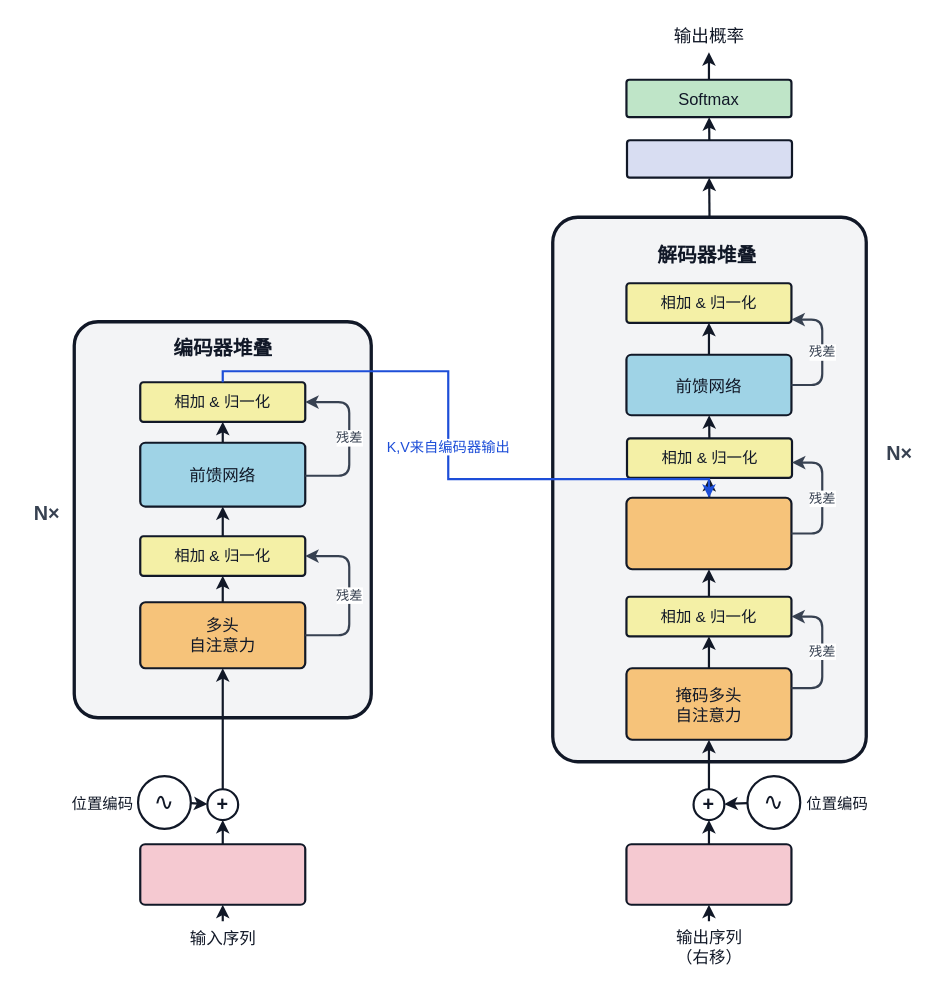
This 945x989 diagram has some shape labels left out. The shapes that lost their labels are listed below. From the top down, each one's centre as x and y in pixels, then its label:
At (709,158): "线性层".
At (708,533): "编码器-解码器 多头注意力".
At (222,874): "输入嵌入".
At (708,874): "输出嵌入".
